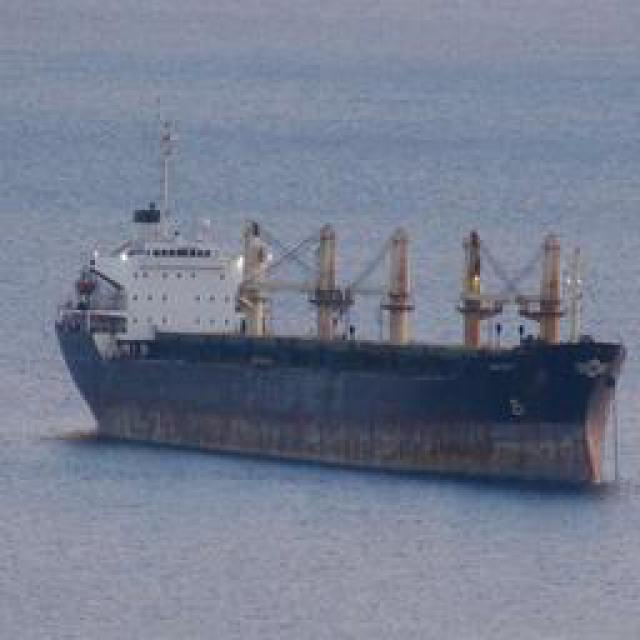Ship: (76, 204, 631, 487)
